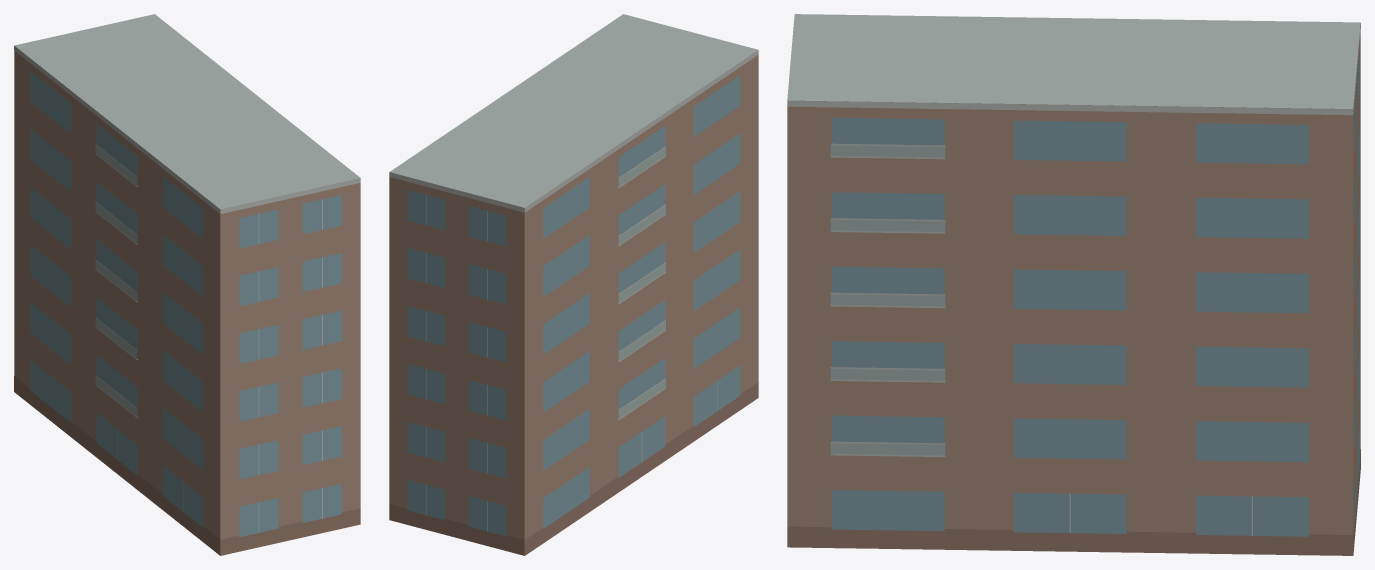
Rendered from survey-upis-32919986.glb.
3 views of the same model, side by side, from view 1: azimuth 30°, elevation 25°; view 2: azimuth 150°, elevation 25°; view 3: azimuth 270°, elevation 25° (orthographic). The views are drawn at different scales.
Parts seen in each view (by area): view 1: survey-upis-32919986.tmp; view 2: survey-upis-32919986.tmp; view 3: survey-upis-32919986.tmp.
Part boxes in pixels (x1,y1,x2,y2): survey-upis-32919986.tmp: [14, 14, 360, 555]; survey-upis-32919986.tmp: [389, 14, 758, 555]; survey-upis-32919986.tmp: [787, 14, 1360, 555].
Size of the model in its own units: 8.04 by 17.6 by 20.48.
